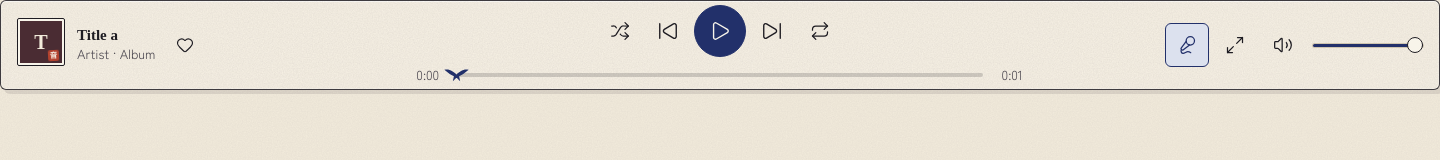
Test: PlayerBar › shows a translated error with a retry that plays again
Click the button named "Reproducir" at {"x": 720, "y": 31}, box [694,5,746,57]
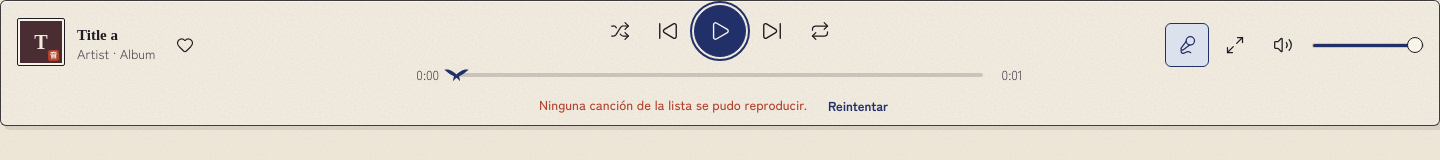
Check: the text "Ninguna canción de la lista se pudo reproducir." is shown, box [539,95,807,115]
Click the button "Reintentar" at {"x": 858, "y": 105}, box [815,89,901,121]
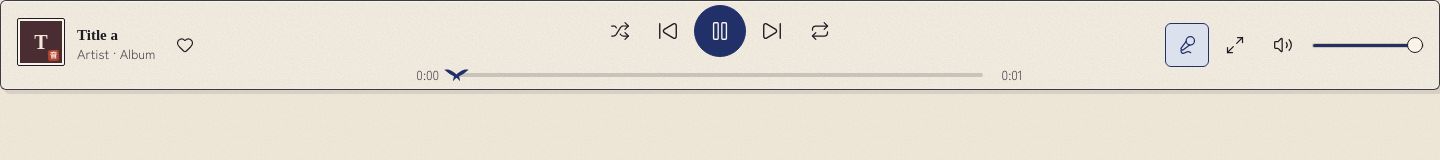
Check: the button named "Pausar" is shown, box [694,5,746,57]
Check: the text "Ninguna canción de la lista se pudo reproducir." is gone
